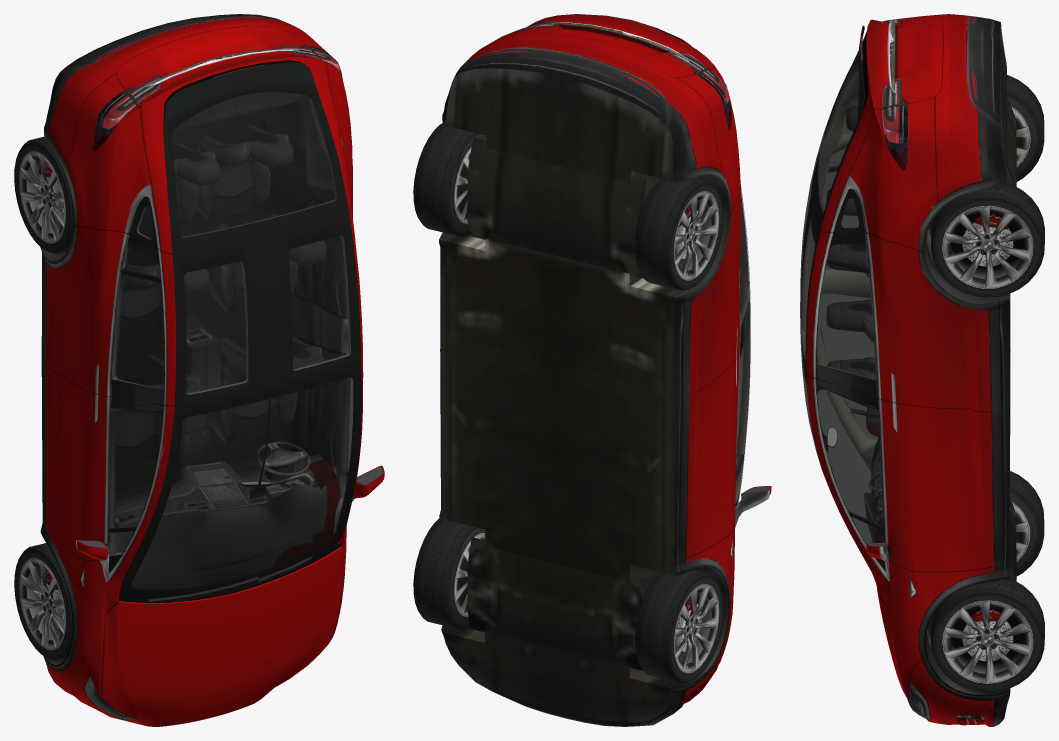
Rendered from CarRed.glb.
3 renders of one model, left to right at view 1: azimuth 30°, elevation 25°; view 2: azimuth 150°, elevation 25°; view 3: azimuth 270°, elevation 25°, orthographic. The views are drawn at different scales.
Visible parts, largest first — view 1: object_car.002; view 2: object_car.002; view 3: object_car.002.
Boxes of the visible parts, x1,y1,x2,y2 form: object_car.002: [14, 14, 384, 726]; object_car.002: [413, 14, 771, 726]; object_car.002: [800, 14, 1044, 726].
Size of the model in its own units: 2.38 by 5.07 by 1.7.
Materials: 2 (2 with a texture image).
